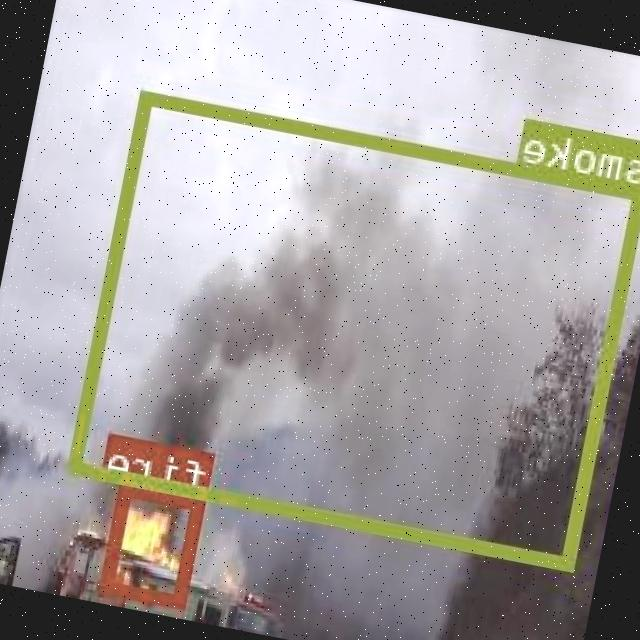fire: (104, 481, 210, 606)
smoke: (70, 88, 640, 570)
